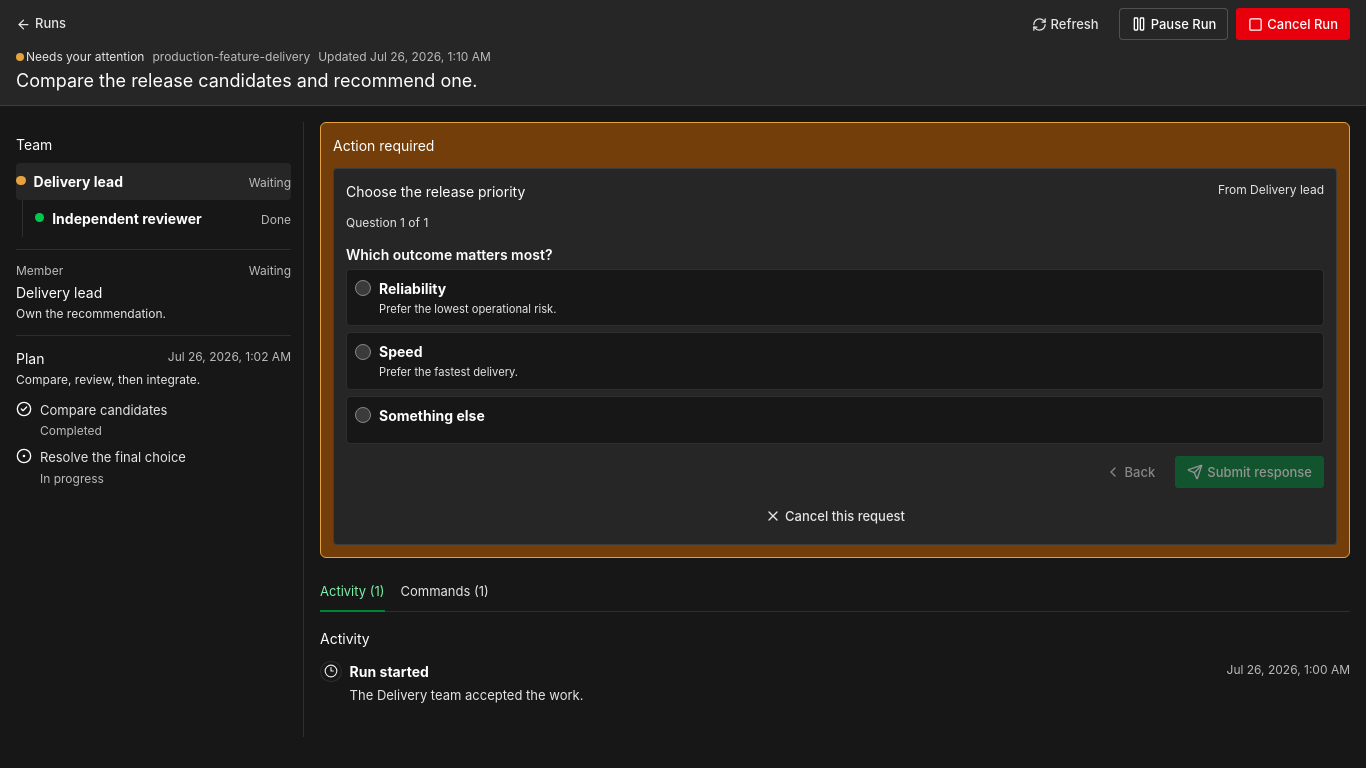
it: temporary Run Studio › selects a teammate to inspect their update, files, and current plan
Check: the text "Compare candidates" is shown, box [40,402,168,418]
Check: the text "Inspect the supporting evidence" is not shown
Click the button "Independent reviewer Done". click: (163, 218)
box: [35,200,291,236]
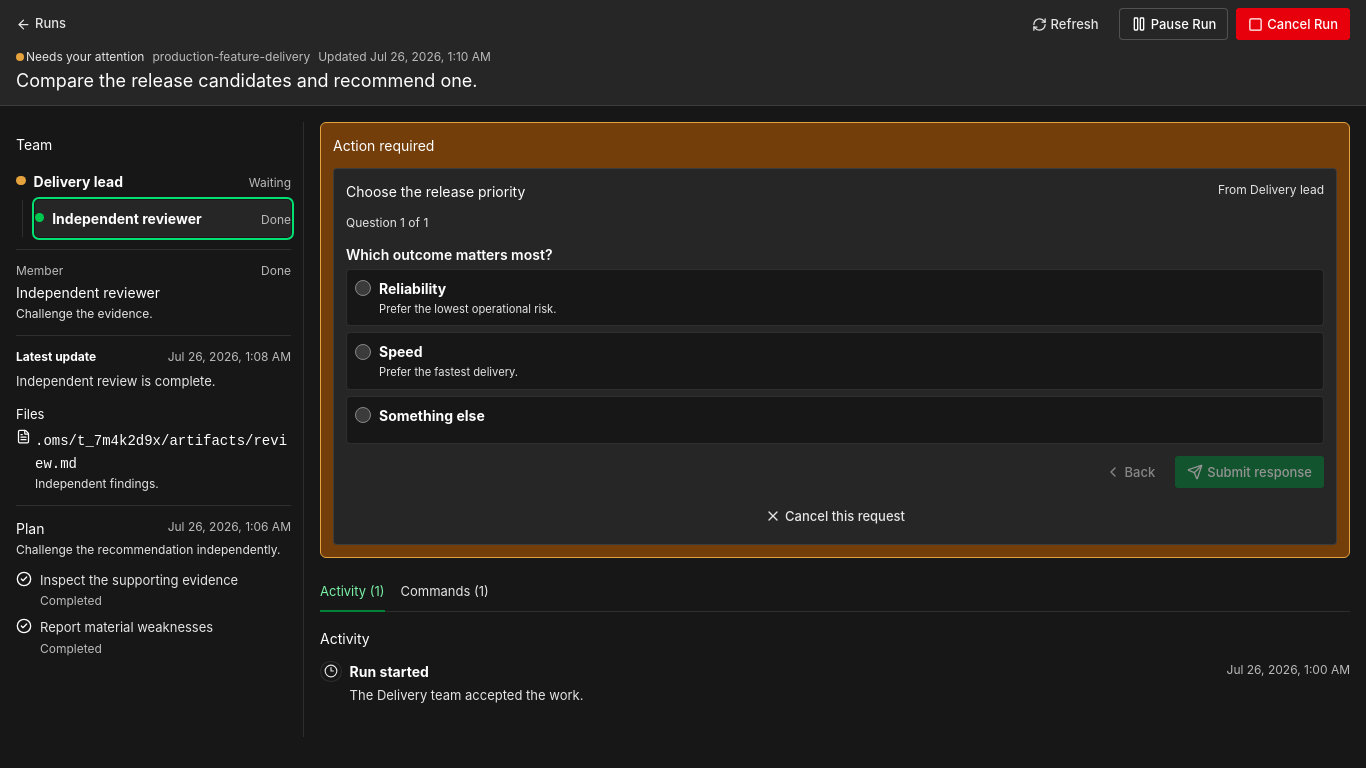
Check: the text "Challenge the evidence." is shown, box [16,306,153,320]
Check: the text "Independent review is complete." is shown, box [16,372,216,388]
Check: the text ".oms/t_7m4k2d9x/artifacts/review.md" is shown, box [35,432,287,472]
